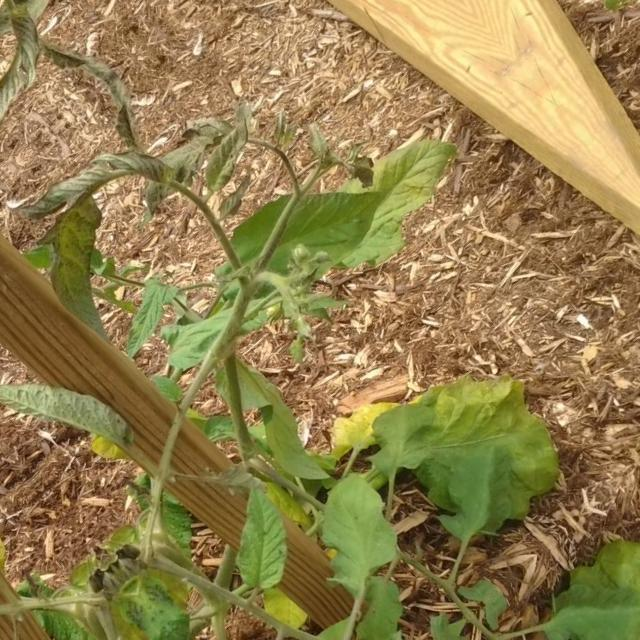Tomato leaf: (310, 109, 487, 280), (266, 454, 429, 620), (120, 557, 279, 640)
